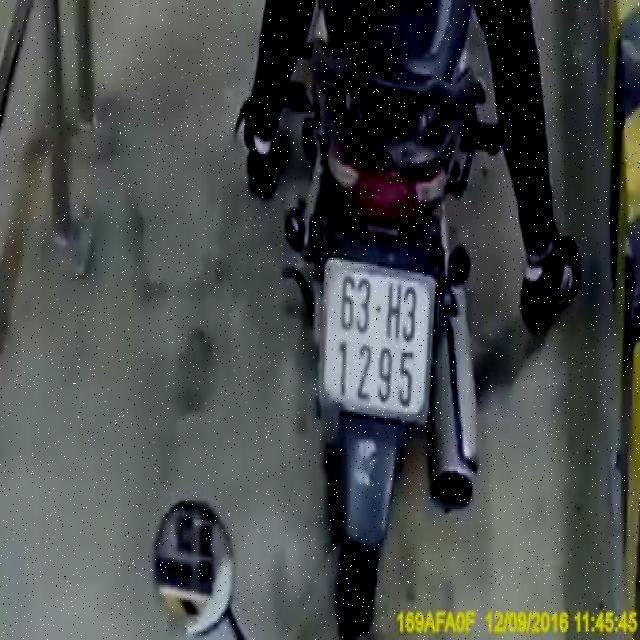1: (339, 338, 350, 405)
2: (357, 339, 378, 406)
3: (402, 285, 418, 345), (356, 279, 373, 334)
5: (398, 349, 417, 410)
6: (338, 275, 355, 333)
9: (378, 346, 392, 411)
H: (385, 282, 403, 342)
